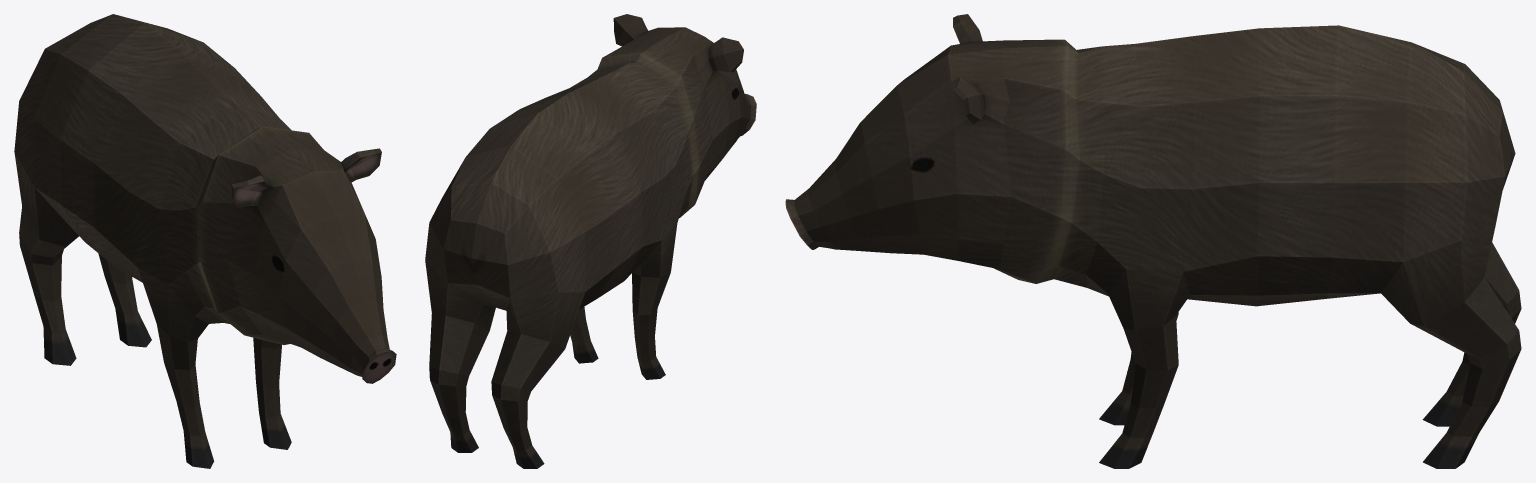
Rendered from jabali.glb.
3 views of the same model, side by side, from view 1: azimuth 30°, elevation 25°; view 2: azimuth 150°, elevation 25°; view 3: azimuth 270°, elevation 25° (orthographic). The views are drawn at different scales.
Visible parts, largest first — view 1: CollaredPeccary_mesh; view 2: CollaredPeccary_mesh; view 3: CollaredPeccary_mesh.
Boxes of the visible parts, x1,y1,x2,y2 form: CollaredPeccary_mesh: [14, 14, 396, 468]; CollaredPeccary_mesh: [425, 14, 756, 468]; CollaredPeccary_mesh: [785, 14, 1521, 468].
Bounding box in the file's own units: 0.7042 × 1.4 × 2.25.
Materials: 1 (1 with a texture image).
